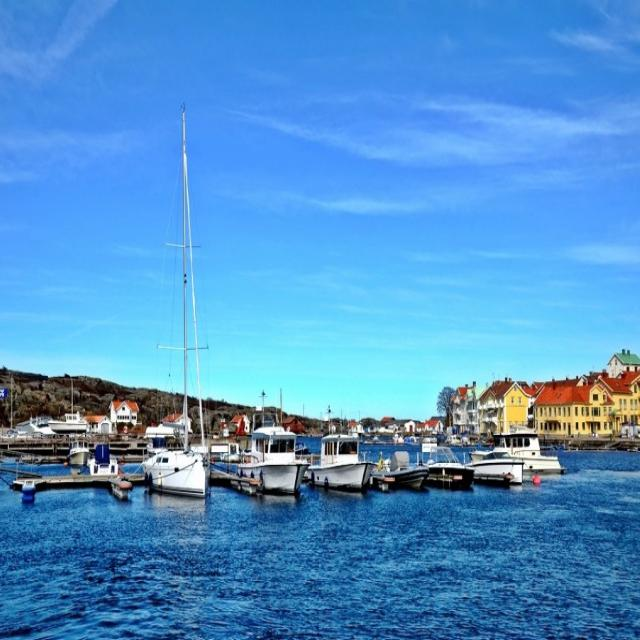passenger ship: (246, 410, 317, 499), (142, 413, 205, 510), (306, 412, 366, 502), (416, 434, 478, 480)
